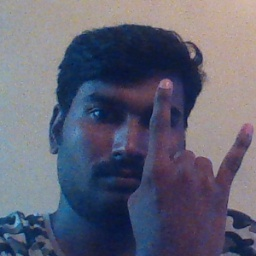V: (123, 75, 254, 256)
